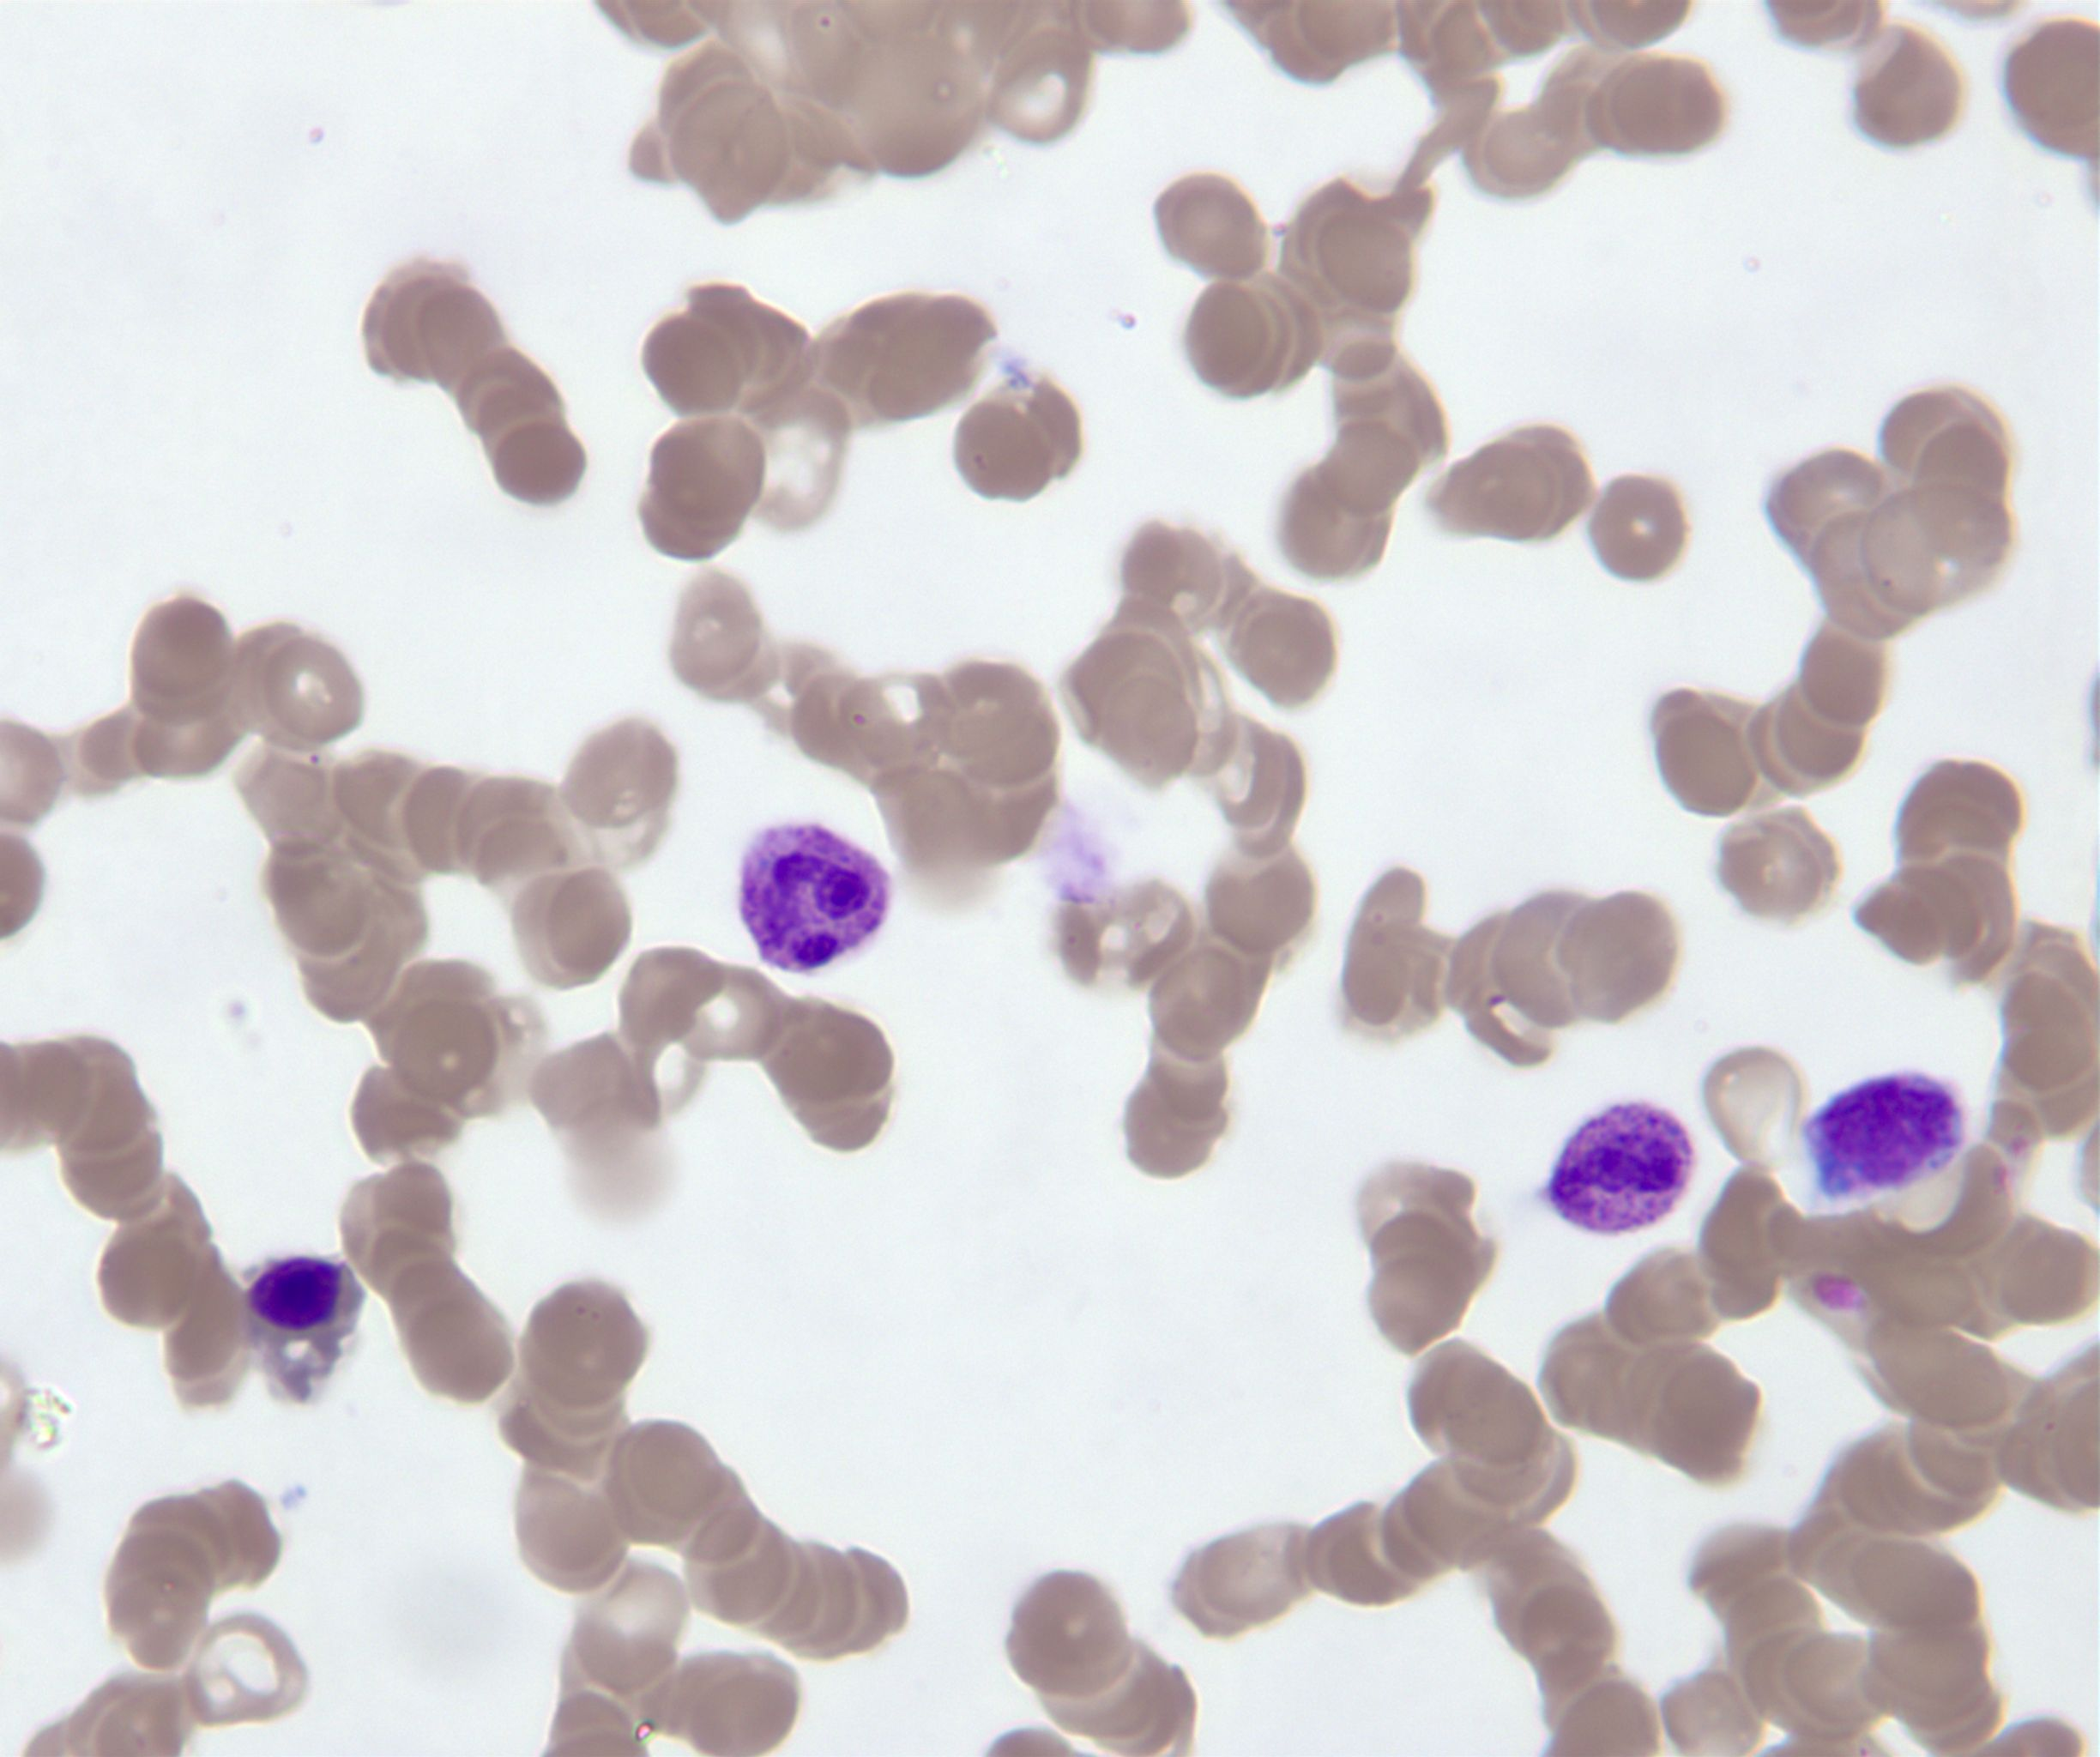24: (244, 1256, 354, 1340)
6: (740, 827, 888, 974), (1537, 1101, 1694, 1235)
x: (1797, 1075, 1962, 1200)
